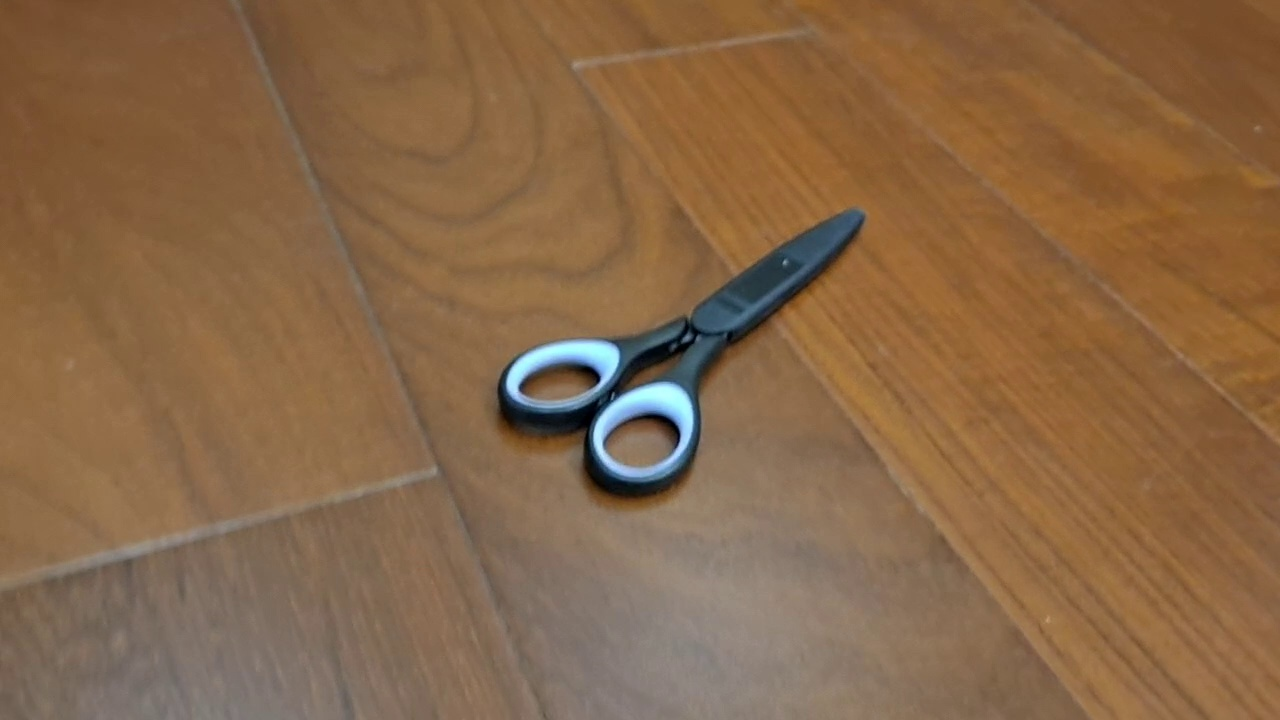scissors: (496, 205, 868, 499)
